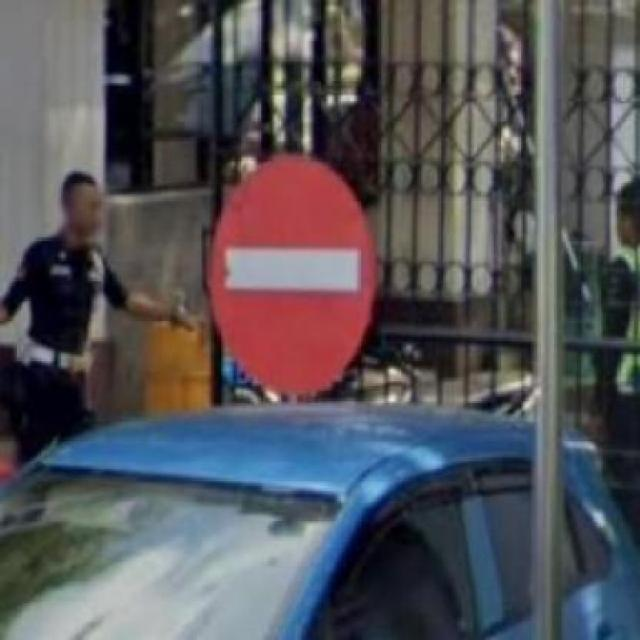no entry: (207, 155, 378, 388)
